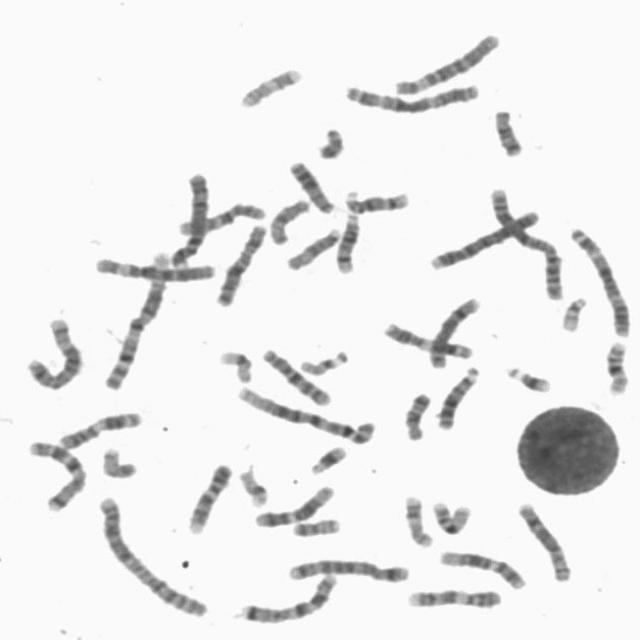A1: (97, 244, 175, 392), (230, 380, 378, 446)
A2: (90, 490, 211, 620), (483, 180, 567, 302)
A3: (563, 220, 634, 338), (338, 76, 482, 115)
B4: (424, 202, 543, 271), (165, 164, 212, 270)
B5: (19, 312, 86, 392), (281, 552, 411, 584)
C10: (255, 341, 334, 408), (170, 196, 266, 237)
C11: (376, 316, 474, 360), (51, 404, 144, 450)
C12: (433, 543, 529, 591), (248, 479, 336, 529)
C6: (387, 26, 503, 97), (88, 250, 218, 284)
C7: (231, 567, 340, 625), (20, 434, 89, 514)
C8: (510, 496, 575, 584), (422, 291, 482, 370)
C9: (180, 457, 233, 535), (399, 582, 504, 610)
D13: (430, 359, 483, 432), (283, 153, 337, 214)
D14: (338, 183, 412, 215), (329, 207, 363, 276)
D15: (280, 222, 343, 272), (262, 192, 312, 246)
E16: (598, 335, 632, 397), (426, 495, 474, 535)
E17: (233, 60, 305, 110), (397, 490, 436, 550)
E18: (486, 101, 526, 158), (397, 386, 433, 442)
F19: (211, 344, 255, 384), (232, 463, 270, 508)
F20: (95, 442, 140, 480), (286, 511, 343, 538)
G21: (500, 360, 554, 394), (302, 439, 349, 476)
G22: (296, 348, 354, 377), (554, 290, 590, 333)
X: (208, 218, 268, 308)
Y: (310, 120, 346, 161)
